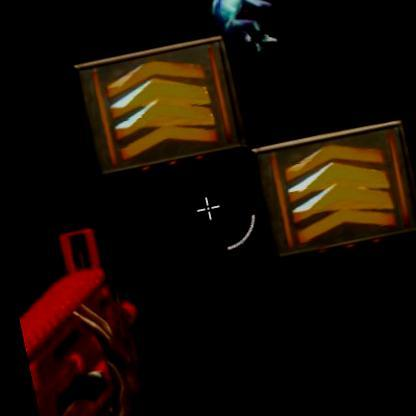person: (195, 0, 273, 47)
